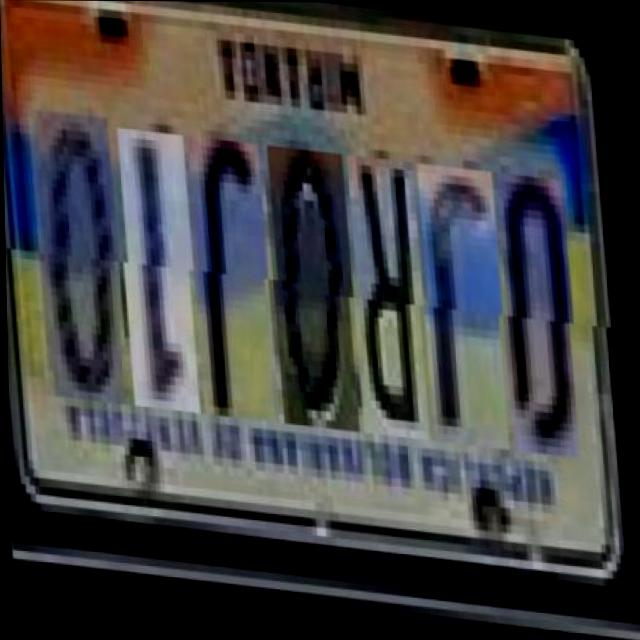0: (497, 175, 580, 459)
1: (118, 139, 201, 423)
j: (417, 166, 510, 452), (188, 145, 276, 431)
o: (37, 123, 127, 417), (268, 152, 360, 438)
r: (347, 161, 430, 445)
